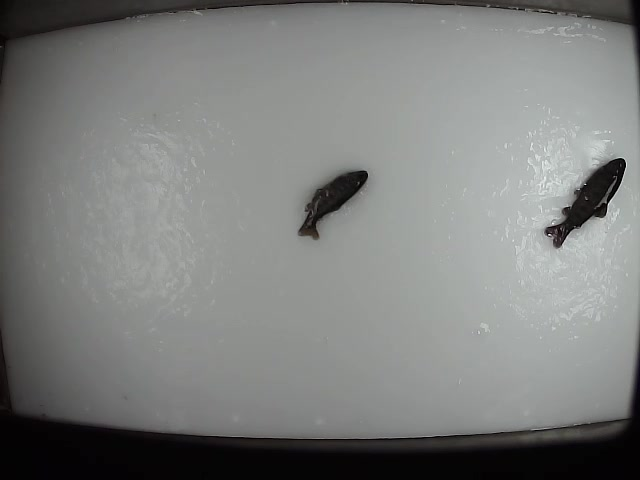fish: (544, 157, 626, 249), (295, 168, 369, 242)
